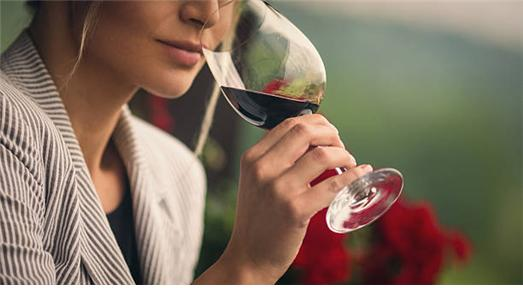alcohol: (198, 0, 409, 235)
